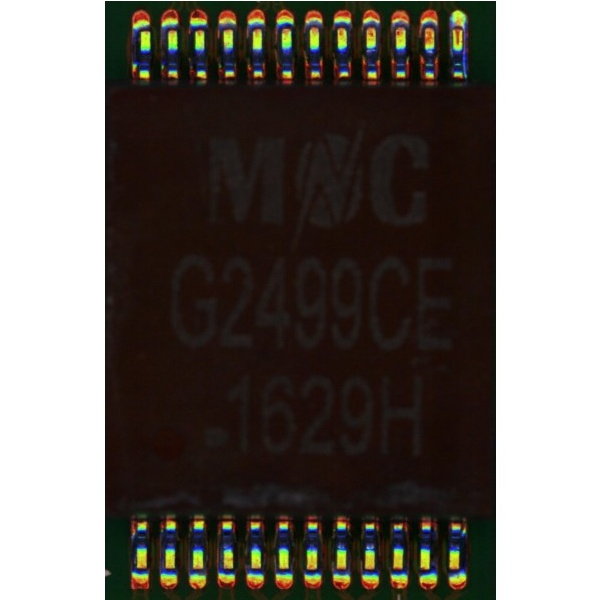Bad_podu: (452, 17, 462, 33)
Bad_qiaojiao: (461, 29, 466, 77)
